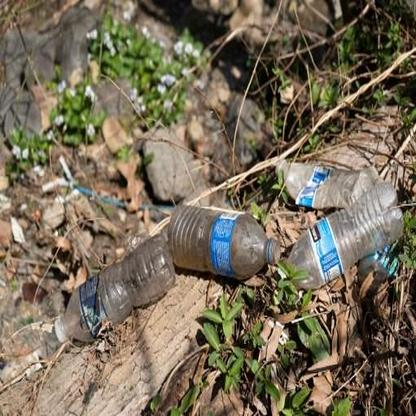plastic bottle: (52, 235, 177, 342), (281, 182, 405, 289), (169, 203, 279, 278), (274, 157, 381, 210)
